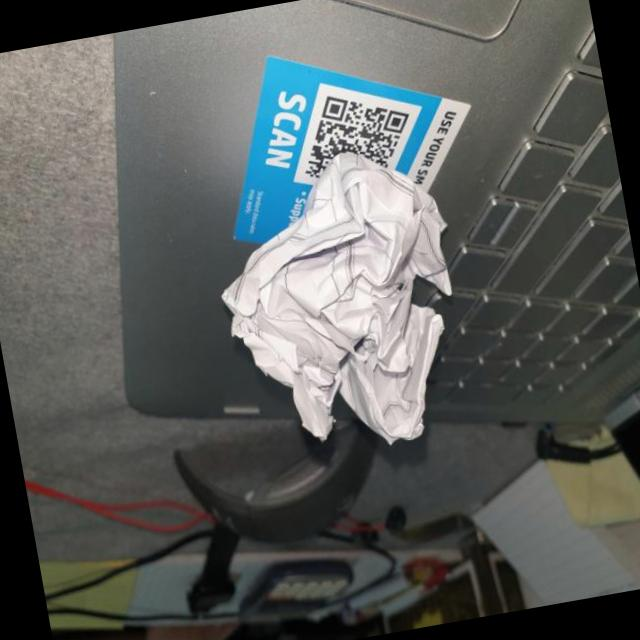cardboard paper: (221, 151, 451, 442)
